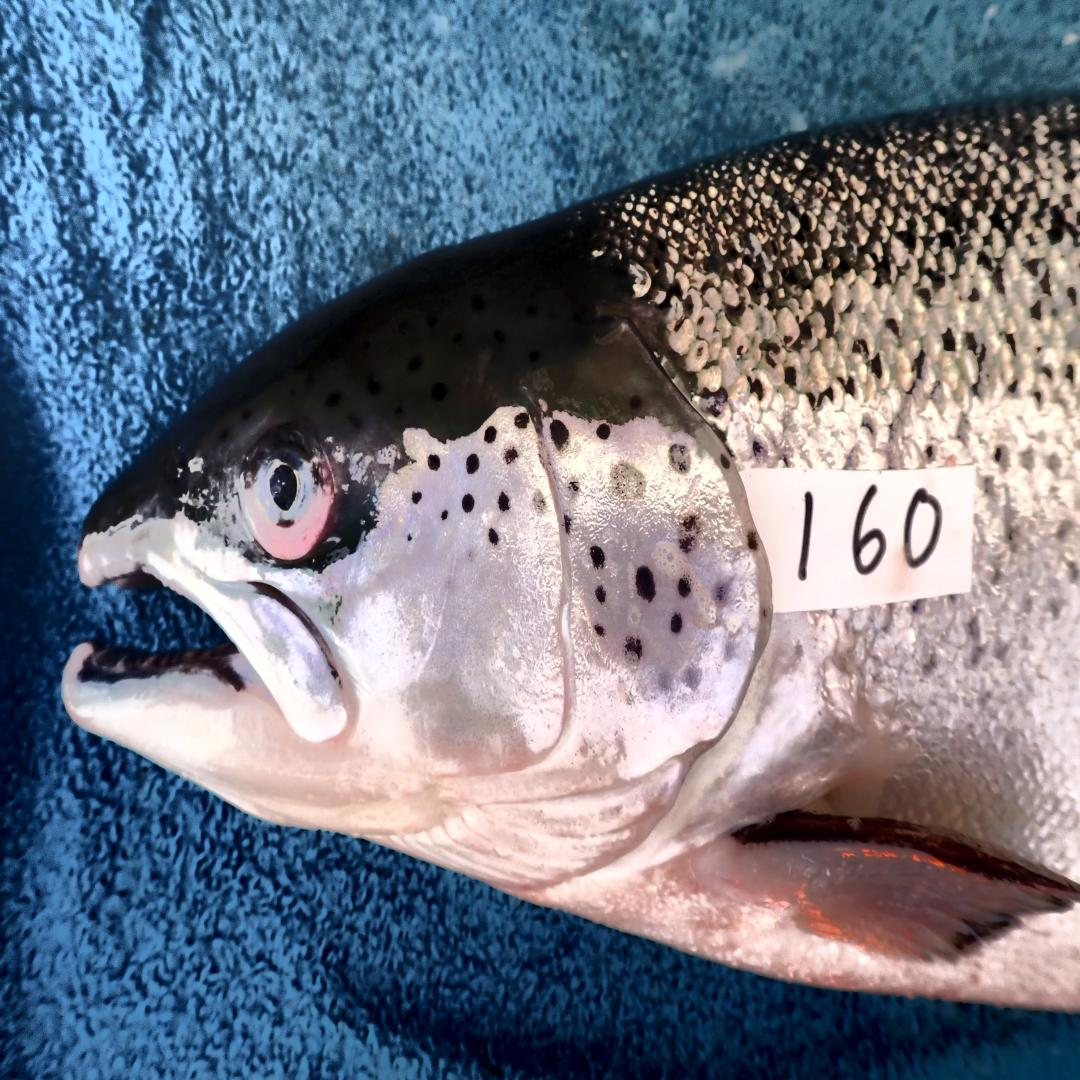spot: (611, 462, 645, 498), (678, 516, 701, 553), (635, 565, 656, 602), (551, 419, 570, 450), (669, 444, 690, 472), (624, 636, 643, 661), (683, 667, 702, 690), (712, 583, 727, 607), (724, 638, 739, 662), (591, 546, 605, 568), (677, 577, 692, 596), (534, 489, 546, 512), (515, 411, 529, 430), (504, 447, 519, 464), (466, 453, 479, 472), (498, 492, 510, 512), (659, 674, 670, 695), (597, 423, 611, 439), (462, 495, 475, 512), (671, 613, 681, 633), (595, 585, 605, 605), (747, 532, 758, 550), (487, 529, 498, 546), (428, 456, 441, 470), (568, 482, 579, 497), (485, 428, 496, 442), (720, 454, 730, 469), (565, 512, 571, 534), (411, 492, 422, 503), (595, 624, 605, 636), (467, 551, 476, 563), (407, 532, 412, 543), (442, 510, 447, 520)
